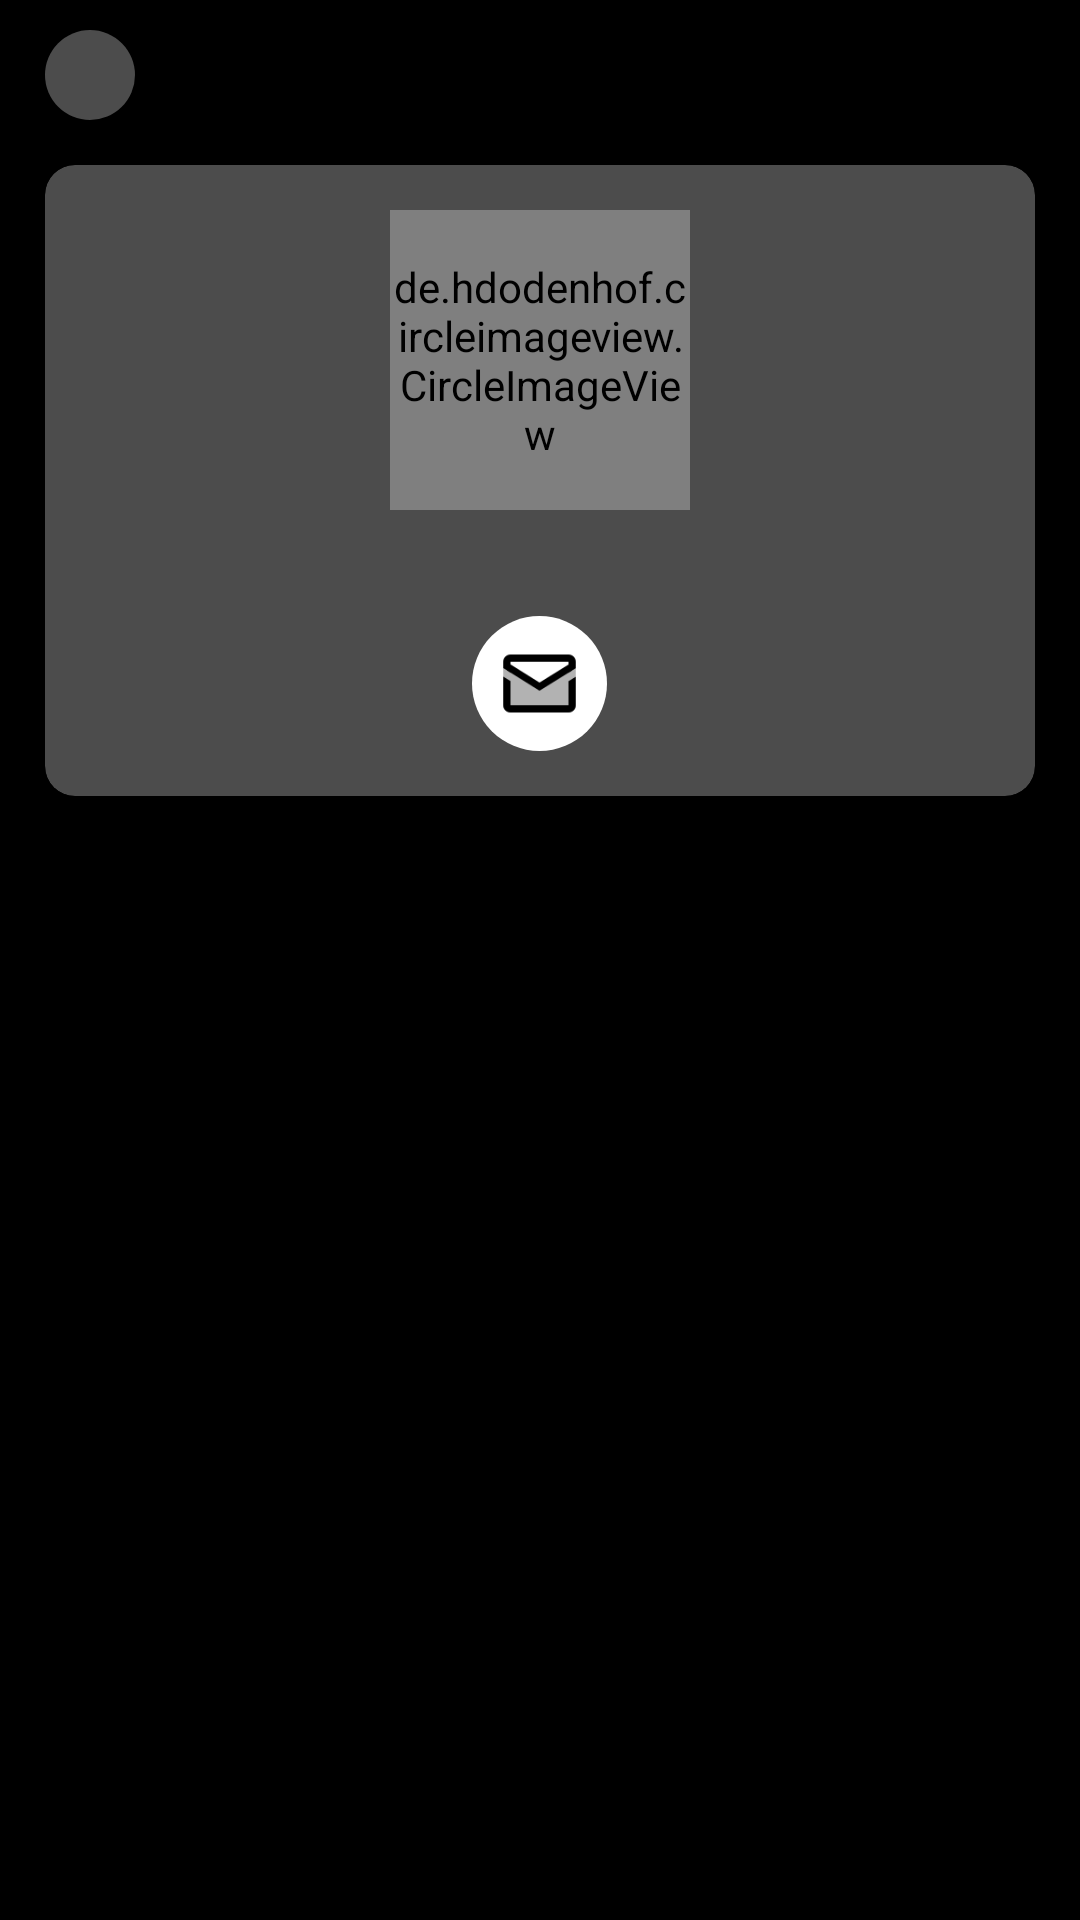

Icon click points for this 1080×1920 phone screenshot, format [x,y]:
mail: [539,683]
